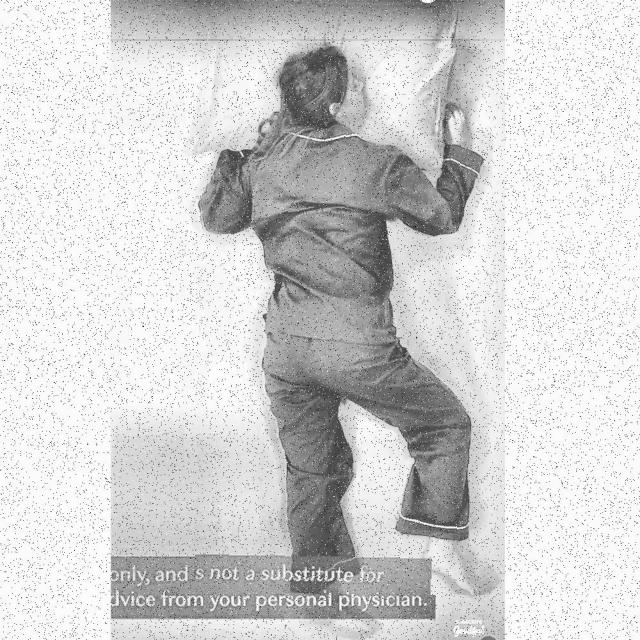Not_Supine: (201, 46, 485, 595)
